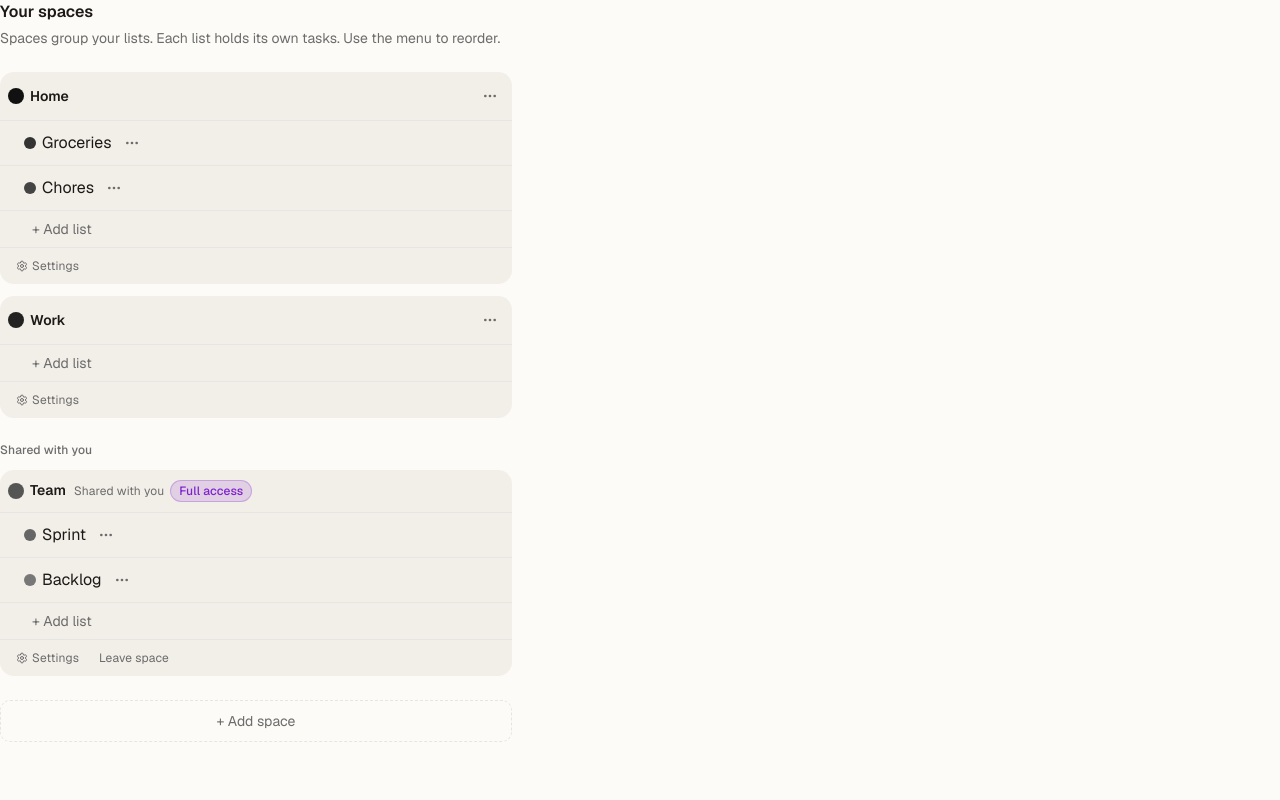
SpaceListManager delete and leave › leaves a shared space after confirming, and drops it and its lists from the cache
Click the button "Leave space".
click(134, 658)  # box [91, 646, 177, 670]
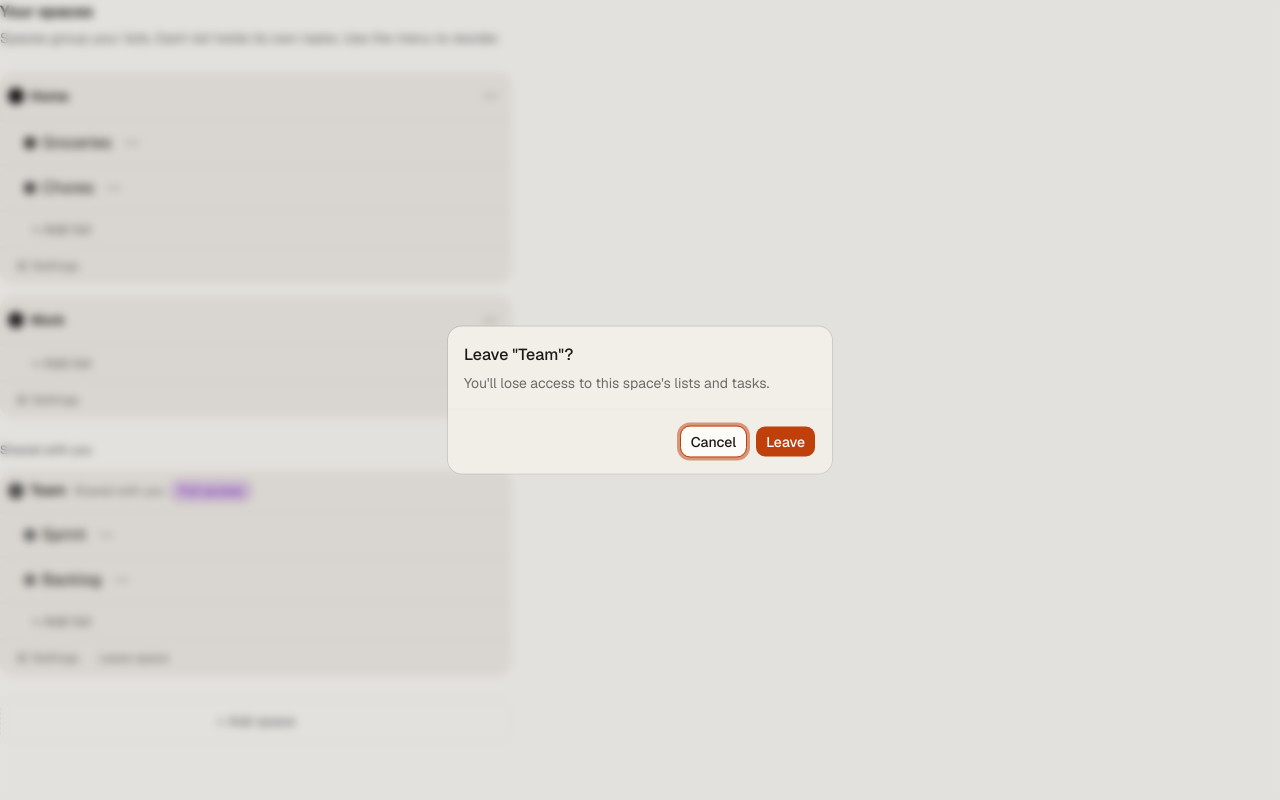
Now the heading "Leave \"Team\"?" is shown, box [464, 342, 573, 366]
Now the text "You'll lose access to this space's lists and tasks." is shown, box [464, 372, 769, 392]
Click the button "Leave".
click(786, 442)  # box [755, 426, 816, 458]
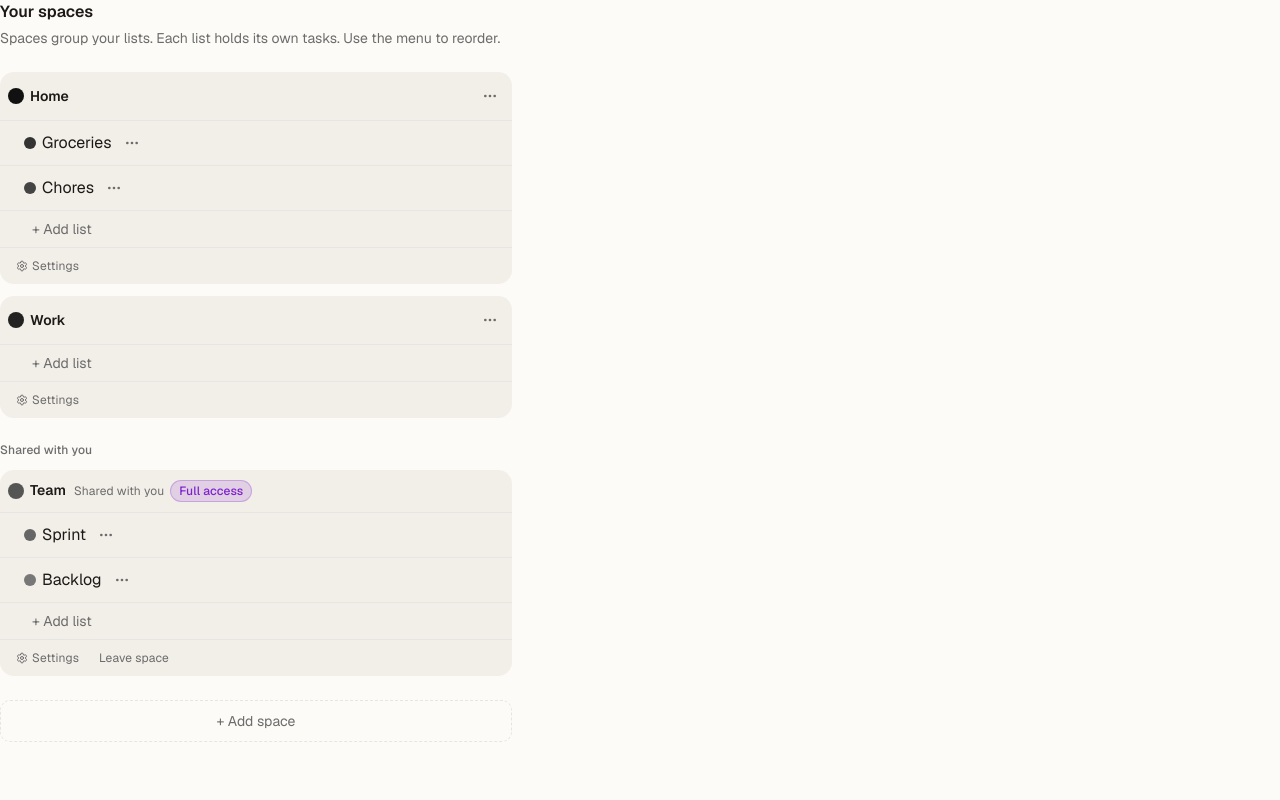
Now the heading "Leave \"Team\"?" is gone
